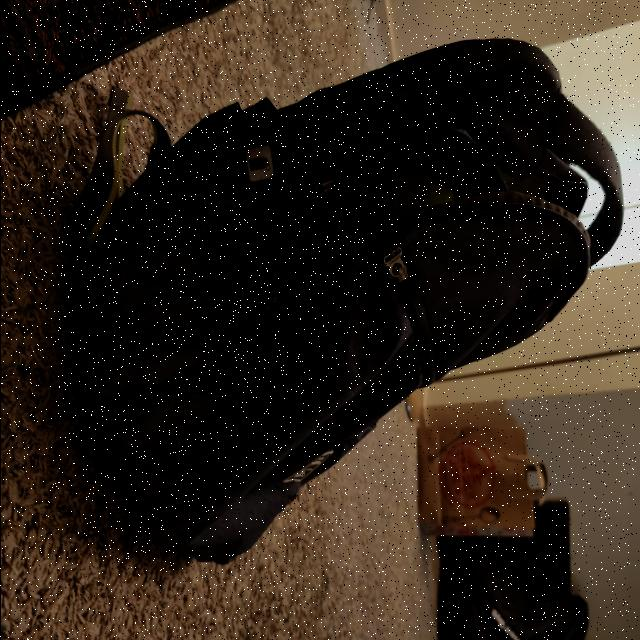bag: (74, 54, 586, 552)
